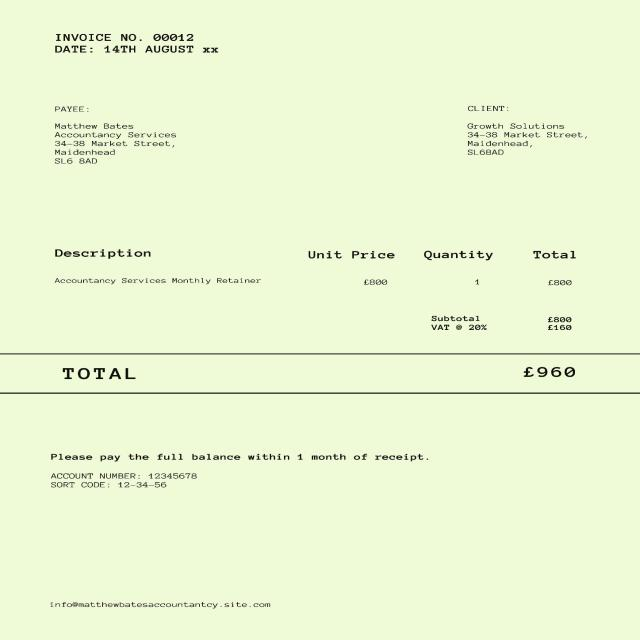paragraph: (25, 357, 589, 388), (41, 104, 189, 170), (455, 102, 594, 166), (33, 444, 431, 464), (45, 591, 278, 618), (421, 312, 589, 338), (35, 469, 208, 492), (54, 45, 223, 57), (54, 30, 206, 42)
table: (29, 232, 582, 296)
